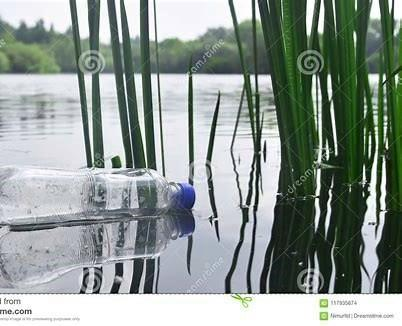Plastic: (0, 165, 197, 228)
